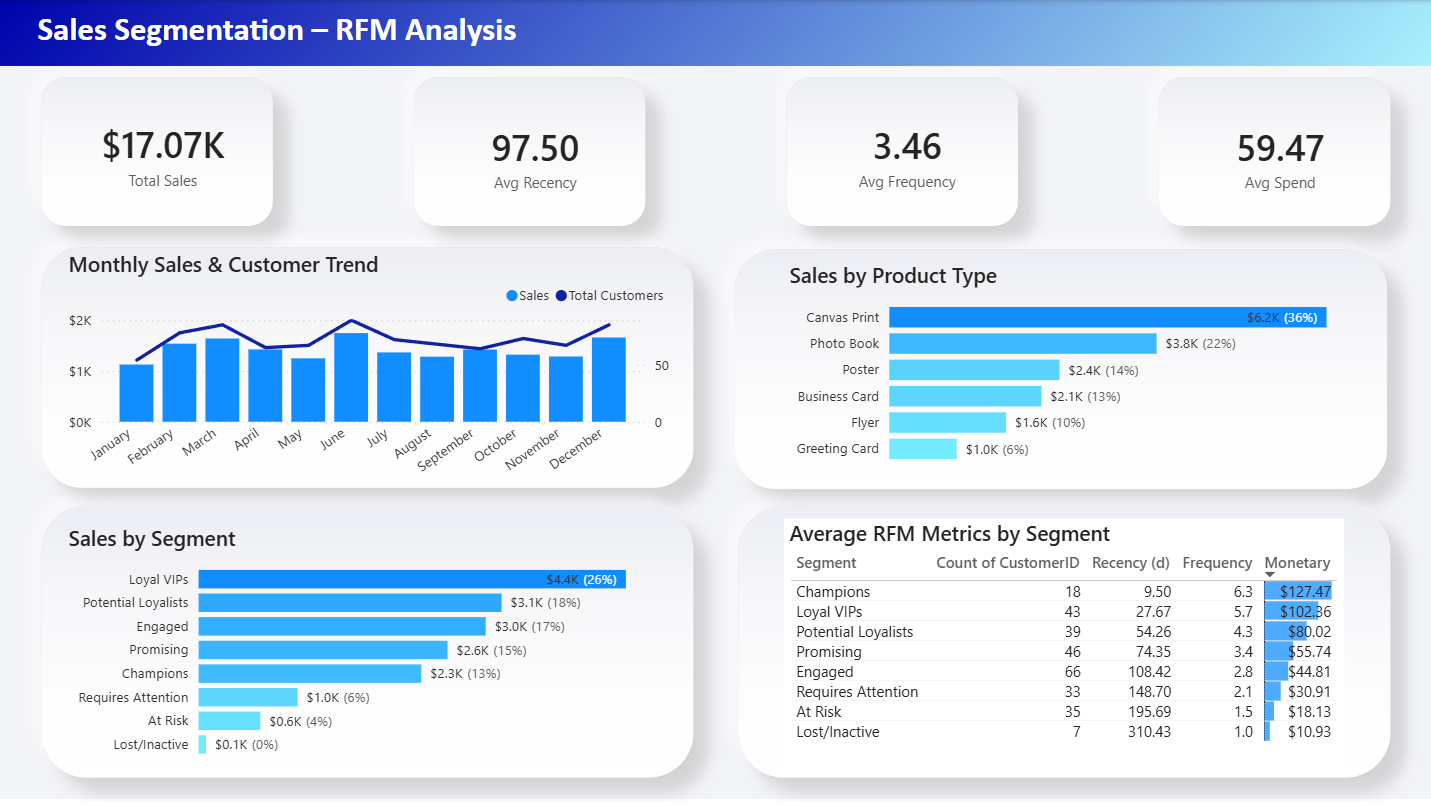

This screenshot's page, from the dashboard's own definition file:
{"tool":"powerbi","page":{"name":"Page 1","canvas":[1280,720],"ordinal":0},"visuals":[{"type":"textbox","box":[45.2,0,976.5,58.5],"z":0},{"type":"lineStackedColumnComboChart","title":"Monthly Revenue & Customer Trend","fields":{"Category":["DateTable.Month Name"],"Y":["_Measures.Total_Sales"],"Y2":["_Measures.Total_Customers"]},"box":[56.2,223.3,546.6,212.3],"z":1000},{"type":"tableEx","title":"Segment Summary Table","fields":{"Values":["rfm.rfm_segment","rfm.CustomerID","rfm.recency","rfm.frequency","rfm.monetary"]},"box":[701.1,463,510.9,228.8],"z":2000},{"type":"group","id":"g1","title":"Group 2","box":[55.9,468.3,541.5,219.5],"z":3000},{"type":"cardVisual","fields":{"Data":["_Measures.Total Sales"]},"box":[45.2,79.8,200,116.4],"z":4000},{"type":"cardVisual","fields":{"Data":["_Measures.Avg_Recency"]},"box":[378.4,82.5,200,115.1],"z":5000},{"type":"cardVisual","fields":{"Data":["_Measures.Avg_Frequency"]},"box":[711.6,79.8,199.6,117.1],"z":6000},{"type":"cardVisual","fields":{"Data":["_Measures.Avg_Monetary"]},"box":[1044.4,83.8,200,113.7],"z":7000},{"type":"clusteredBarChart","fields":{"Category":["sales2025.ProductType"],"Y":["_Measures.Total Sales"]},"box":[701.1,232.8,542.8,192.9],"z":8000},{"type":"clusteredBarChart","title":"Revenue by Segment","fields":{"Category":["rfm.rfm_segment"],"Y":["_Measures.Total Sales"]},"box":[55.9,468.3,542.5,219.2],"z":11000,"group":"g1"}]}

Visuals, with their boxes in screenshot pixels (x1, y1, x2, y2), scaled from the page's 1280x720 canvas onto the 1431x805 screenshot:
textbox: 51 0 1142 65
"Monthly Revenue & Customer Trend" lineStackedColumnComboChart: 63 250 674 487
"Segment Summary Table" tableEx: 784 518 1355 773
"Group 2" group: 62 524 668 769
cardVisual - _Measures.Total Sales: 51 89 274 219
cardVisual - _Measures.Avg_Recency: 423 92 647 221
cardVisual - _Measures.Avg_Frequency: 796 89 1019 220
cardVisual - _Measures.Avg_Monetary: 1168 94 1391 221
clusteredBarChart - sales2025.ProductType x _Measures.Total Sales: 784 260 1391 476
"Revenue by Segment" clusteredBarChart: 62 524 669 769
